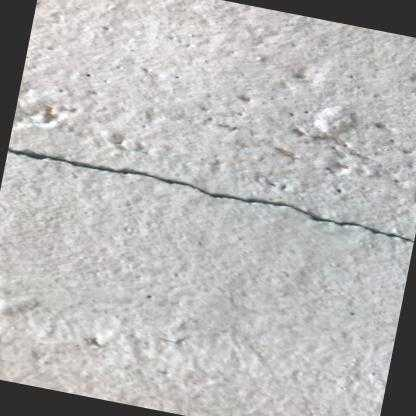crack: (7, 147, 414, 242)
